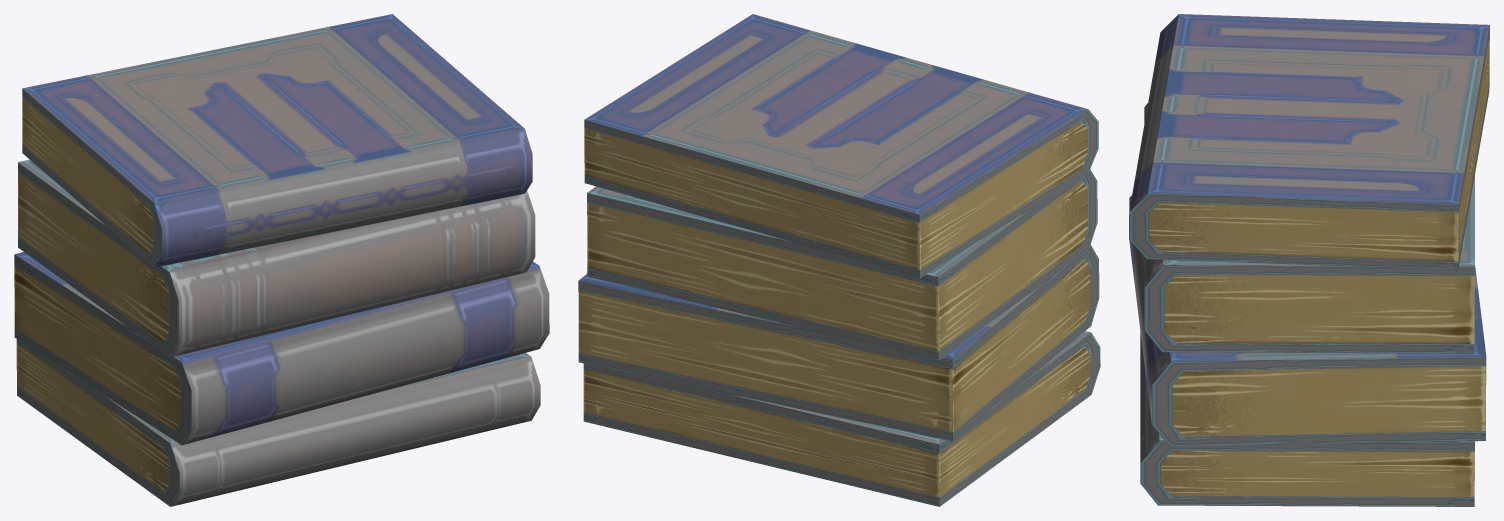
File: Book_Stack_1.obj
3 renders of one model, left to right at view 1: azimuth 30°, elevation 25°; view 2: azimuth 150°, elevation 25°; view 3: azimuth 270°, elevation 25°, orthographic. The views are drawn at different scales.
Visible parts, largest first — view 1: Book_Stack_1_Cube.153; view 2: Book_Stack_1_Cube.153; view 3: Book_Stack_1_Cube.153.
Part boxes in pixels (x1=…): Book_Stack_1_Cube.153: x1=14, y1=14, x2=549, y2=506; Book_Stack_1_Cube.153: x1=578, y1=14, x2=1100, y2=506; Book_Stack_1_Cube.153: x1=1129, y1=14, x2=1489, y2=506.
Bounding box in the file's own units: 0.2849 × 0.2137 × 0.2263.
Materials: 1 (1 with a texture image).
